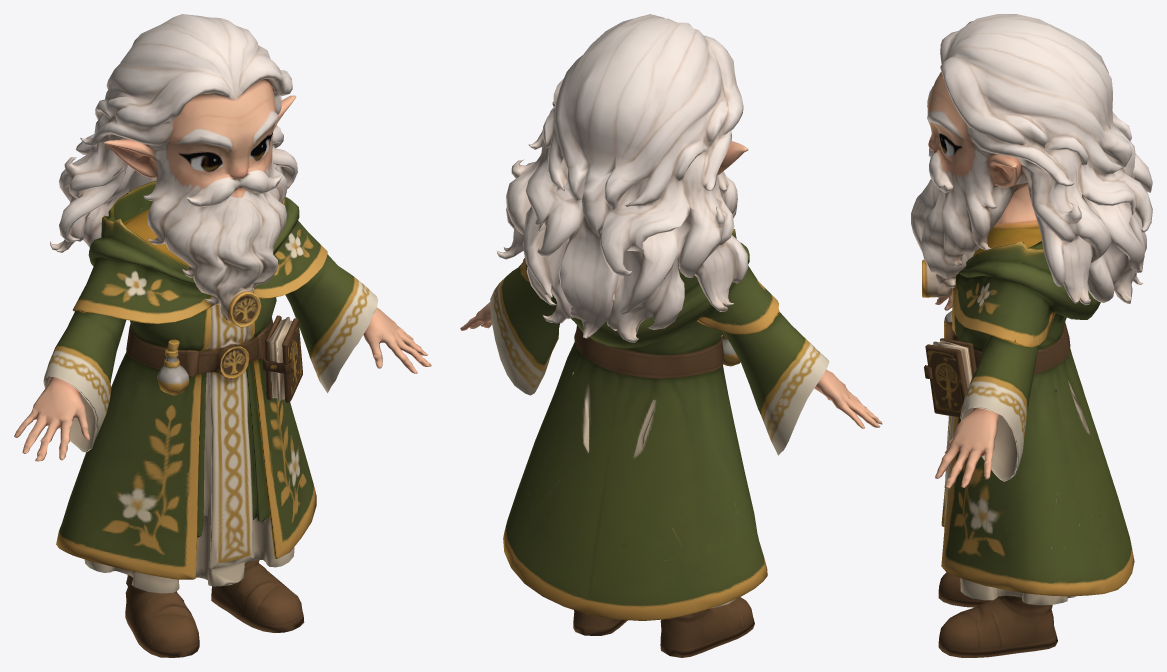
The model's file is Meshy_AI_Eldergrove_Sage_1120101904_texture.glb.
3 views of the same model, side by side, from view 1: azimuth 30°, elevation 25°; view 2: azimuth 150°, elevation 25°; view 3: azimuth 270°, elevation 25° (orthographic).
Visible parts, largest first — view 1: geometry_0; view 2: geometry_0; view 3: geometry_0.
Part boxes in pixels (box(x1,y1,x2,y2)): geometry_0: box(14, 14, 431, 657); geometry_0: box(460, 14, 882, 657); geometry_0: box(911, 14, 1152, 657).
Bounding box in the file's own units: 0.6768 × 0.9512 × 0.3477.
1 material, 1 textured.
